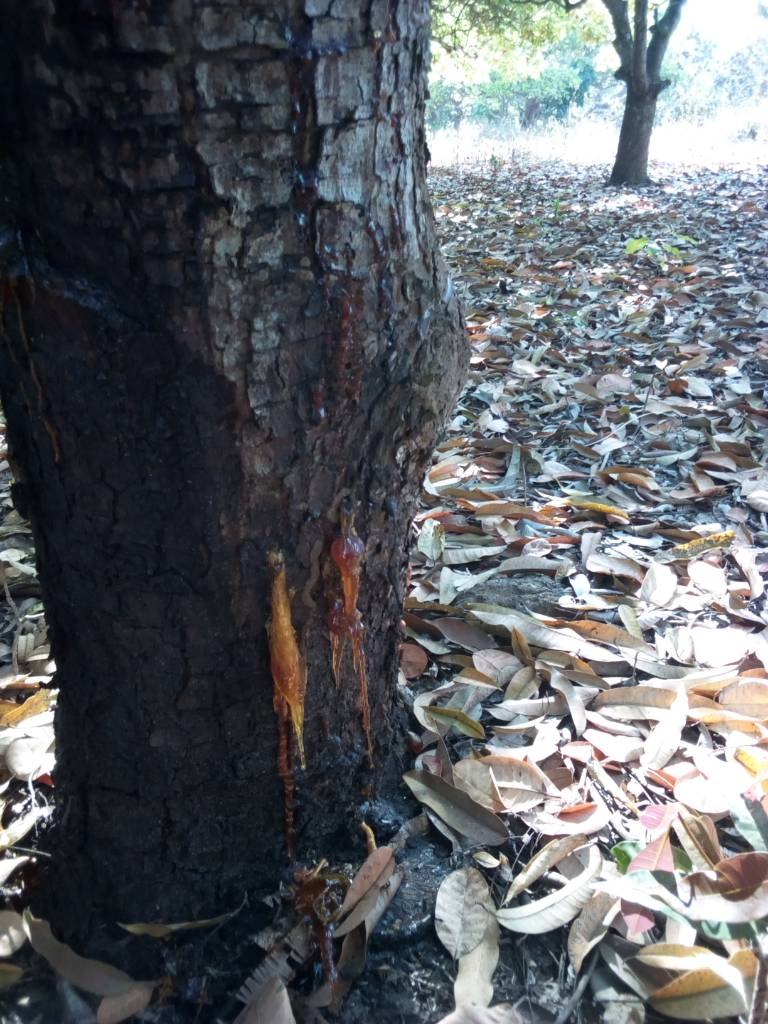Gommose: (5, 236, 252, 853), (277, 332, 402, 835)
